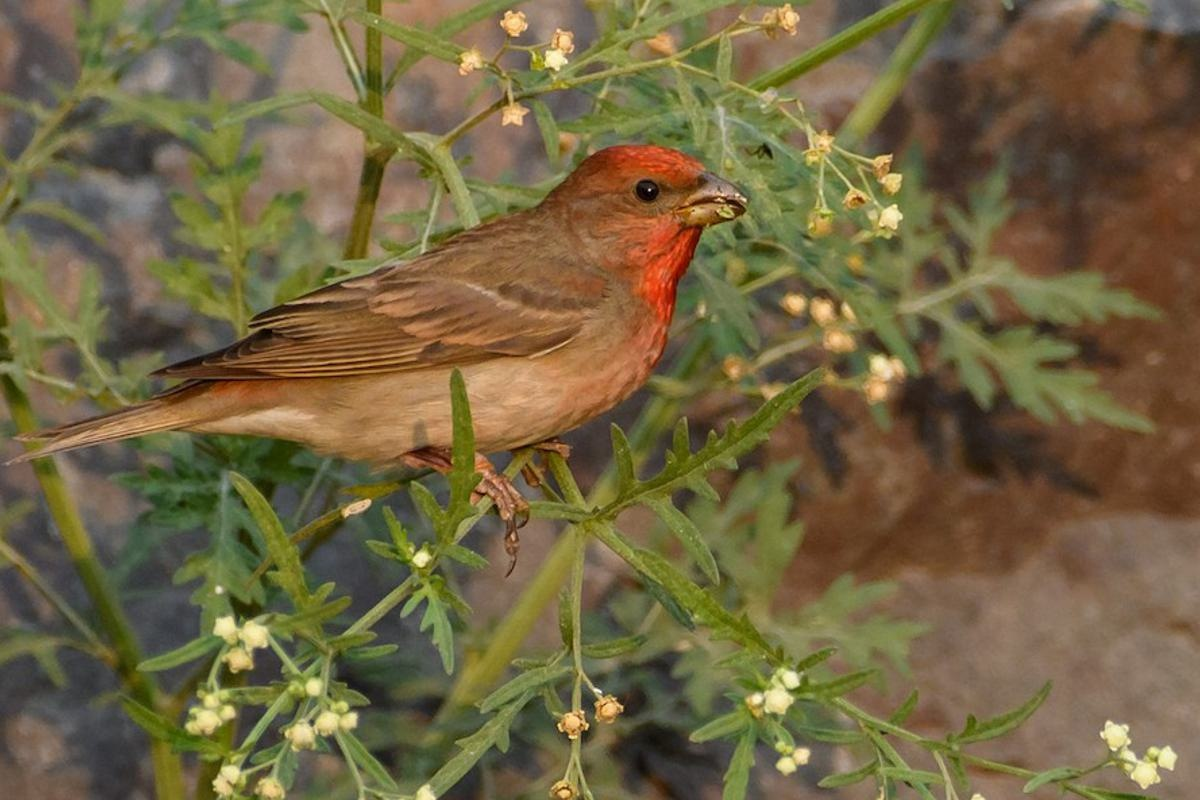rosefinch: (117, 137, 765, 491)
